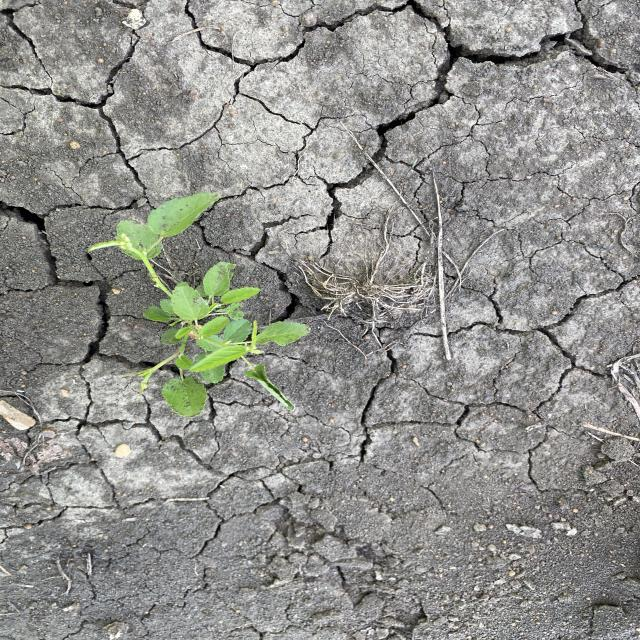PricklySida: (85, 190, 312, 421)
